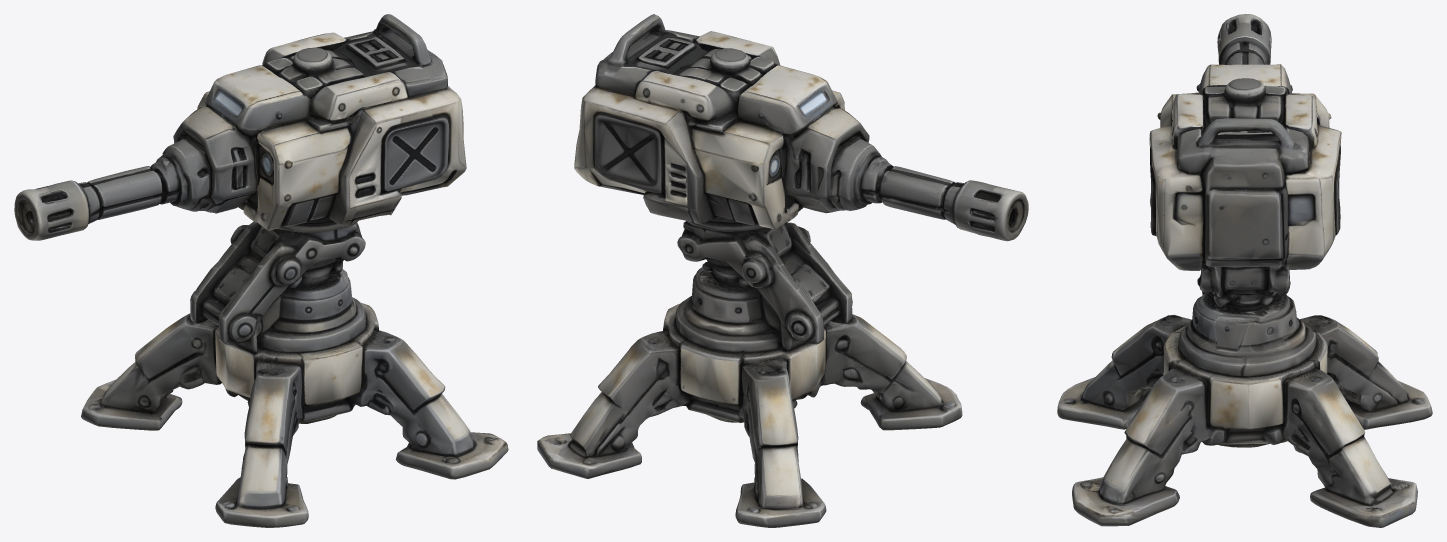
The model's file is tower_m5.glb.
The picture shows the model from 3 angles, left to right: view 1: azimuth 30°, elevation 25°; view 2: azimuth 150°, elevation 25°; view 3: azimuth 270°, elevation 25°; orthographic projection.
Bounding box in the file's own units: 2 × 1.8 × 1.56.
Materials: 1 (1 with a texture image).
